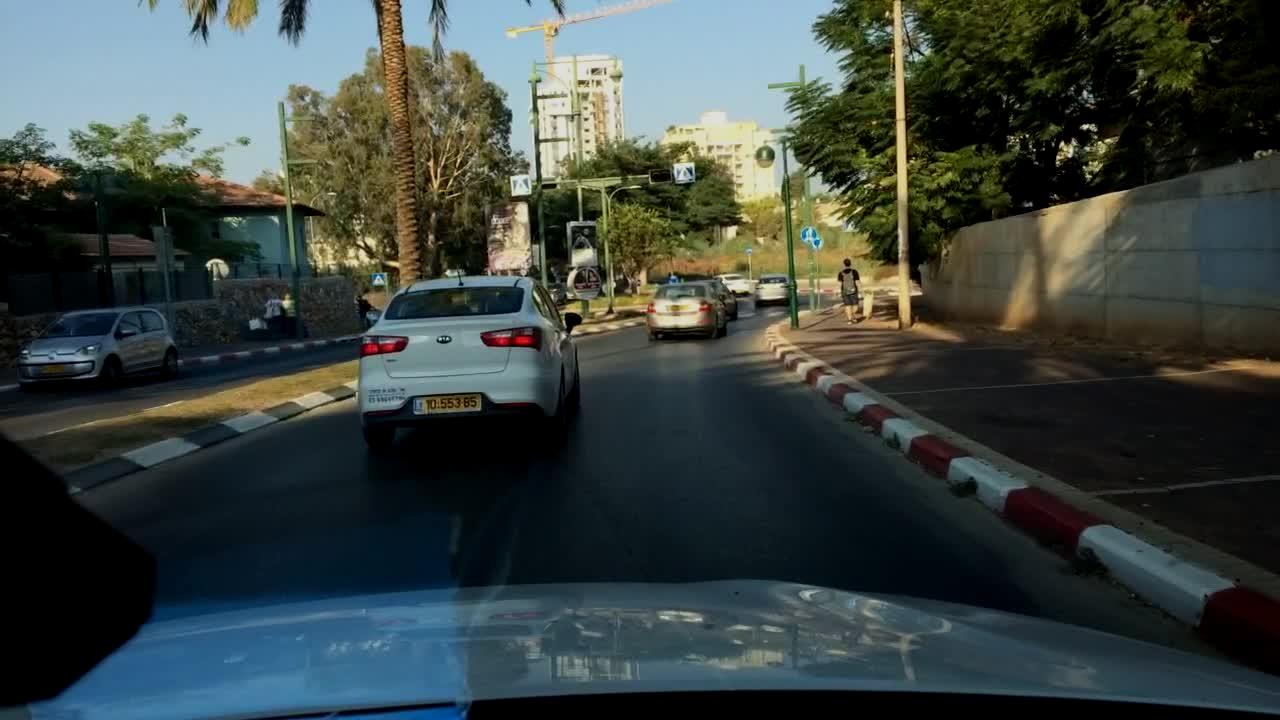kia: (428, 329, 460, 352)
